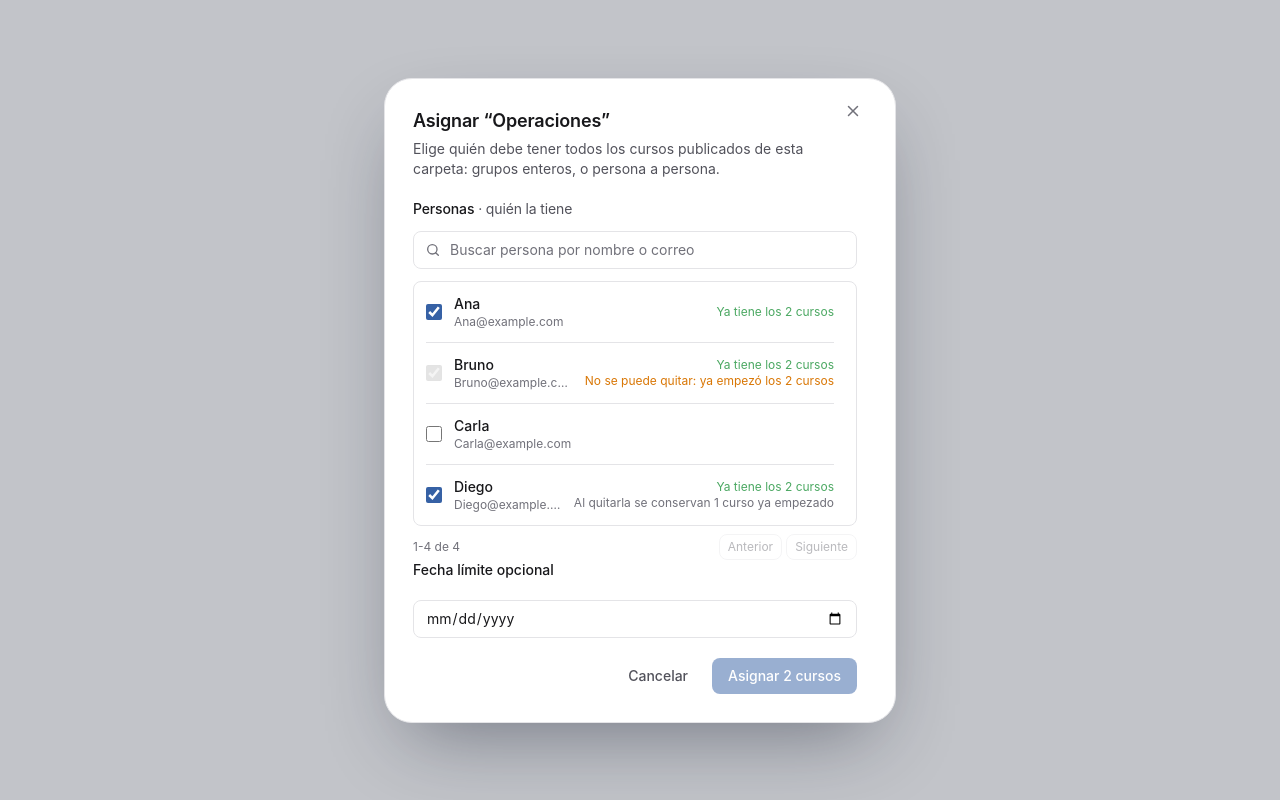
Test: FolderAssignmentDialog › unticking removes › removes only the not-started half of a half-started folder, and says so
Expected: the text "Ana" is shown, x1=454 y1=294 x2=480 y2=312
Expected: the checkbox labelled "Ana Ana@example.com Ya tiene los 2 cursos" is checked, x1=426 y1=304 x2=442 y2=320
Click the checkbox named "Diego tiene esta carpeta" at (434,494), box x1=426 y1=486 x2=442 y2=502
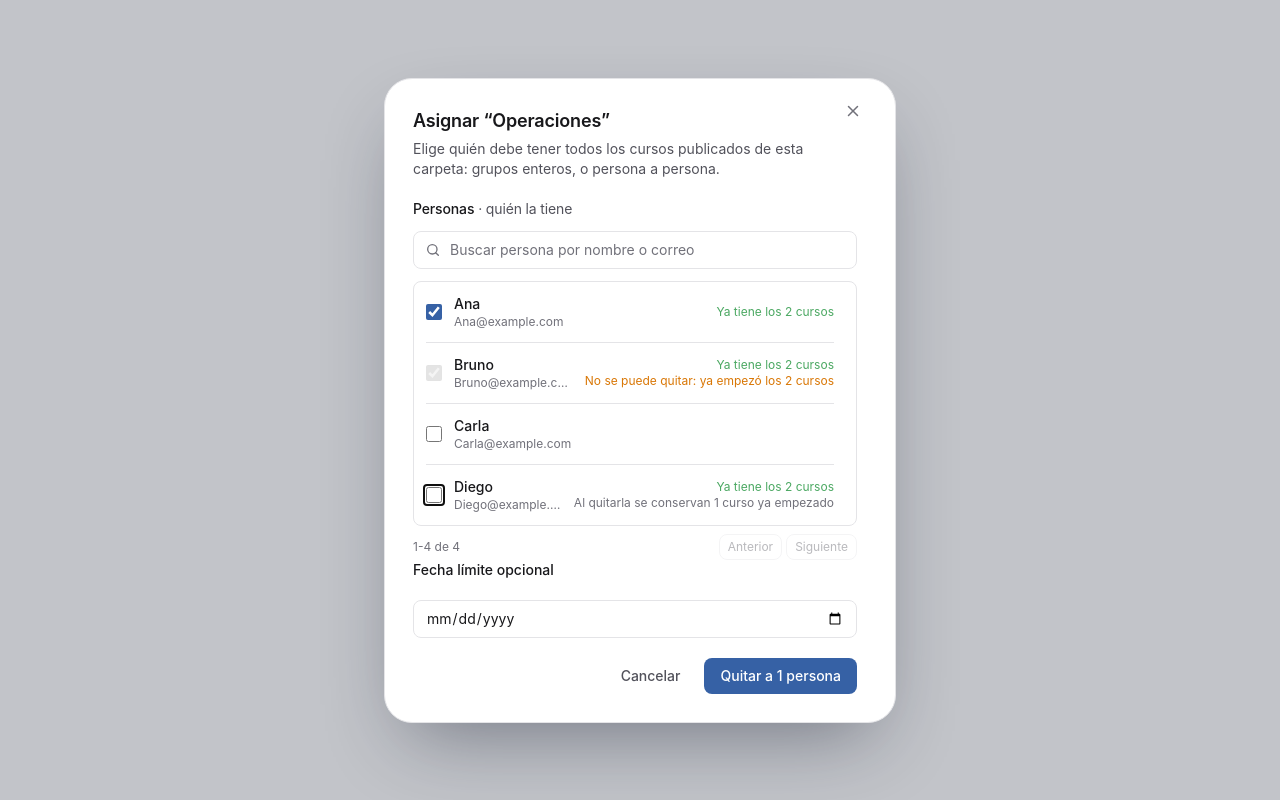
Click the button "Quitar a 1 persona" at (781,676), box x1=704 y1=658 x2=857 y2=694
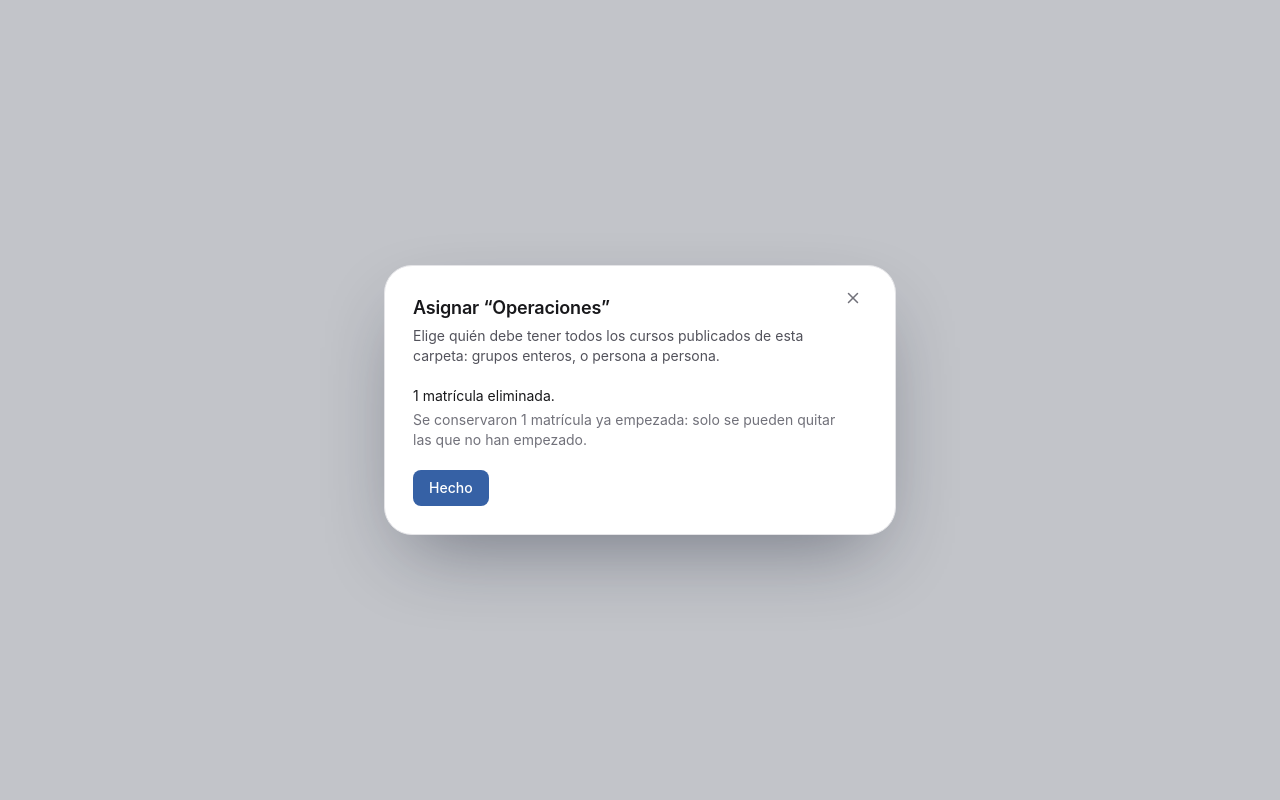
Expected: the text "1 matrícula eliminada." is shown, x1=413 y1=387 x2=555 y2=404
Expected: the text "Se conserv" is shown, x1=413 y1=411 x2=835 y2=448
